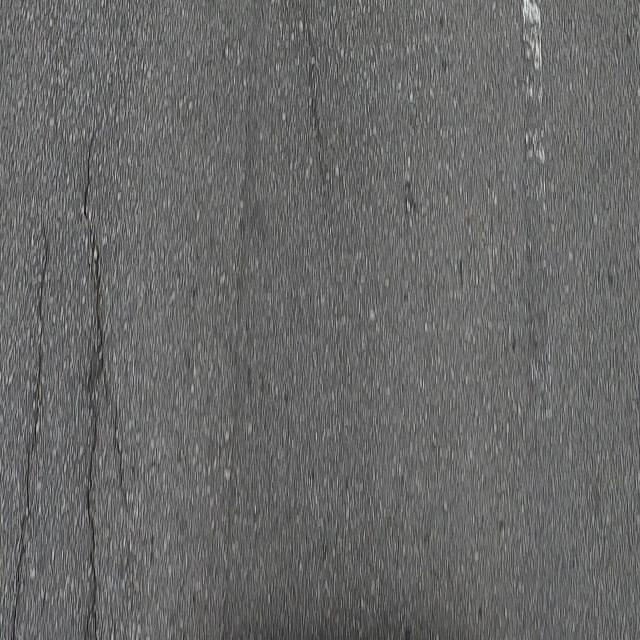Retak-Memanjang: (6, 215, 55, 640), (77, 131, 130, 510), (83, 358, 102, 637)
